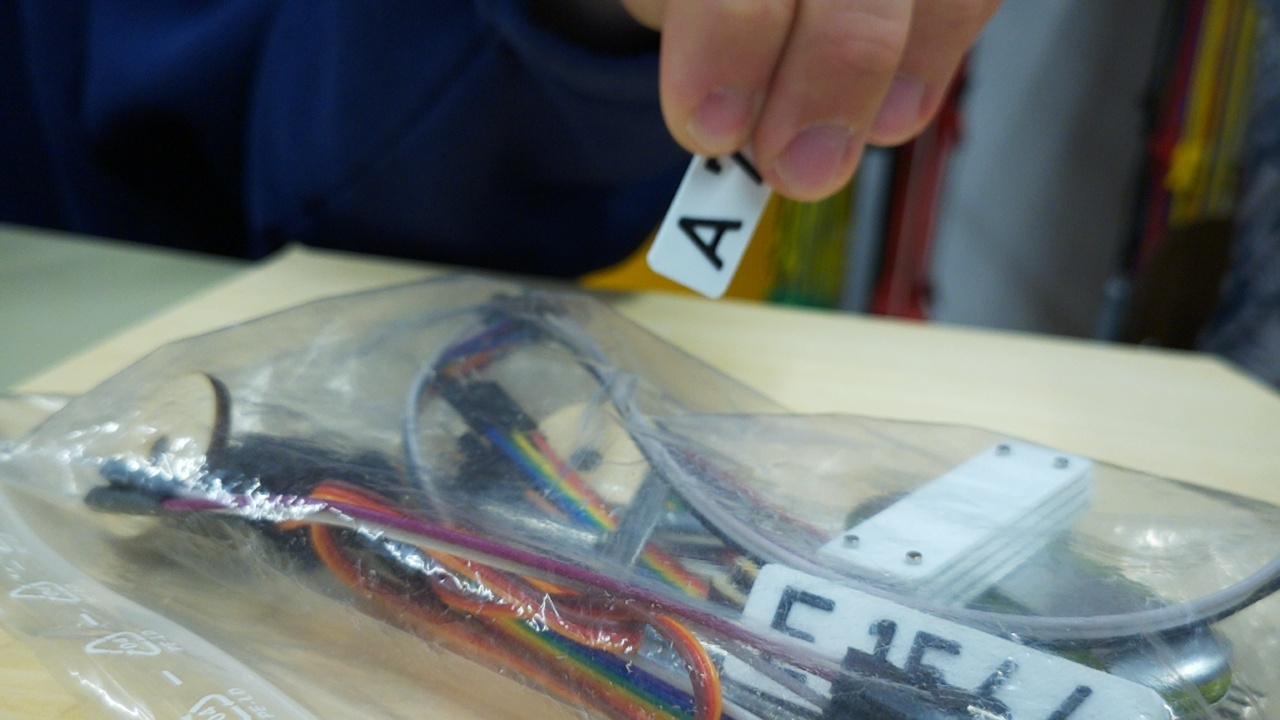license_plate: (721, 542, 1177, 720)
